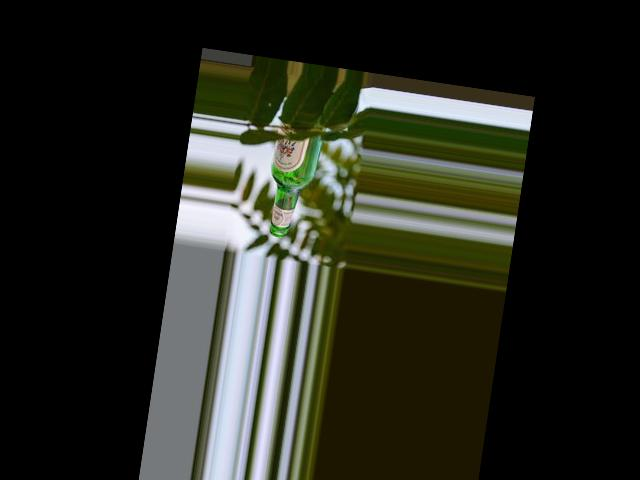beer: (261, 118, 323, 241)
